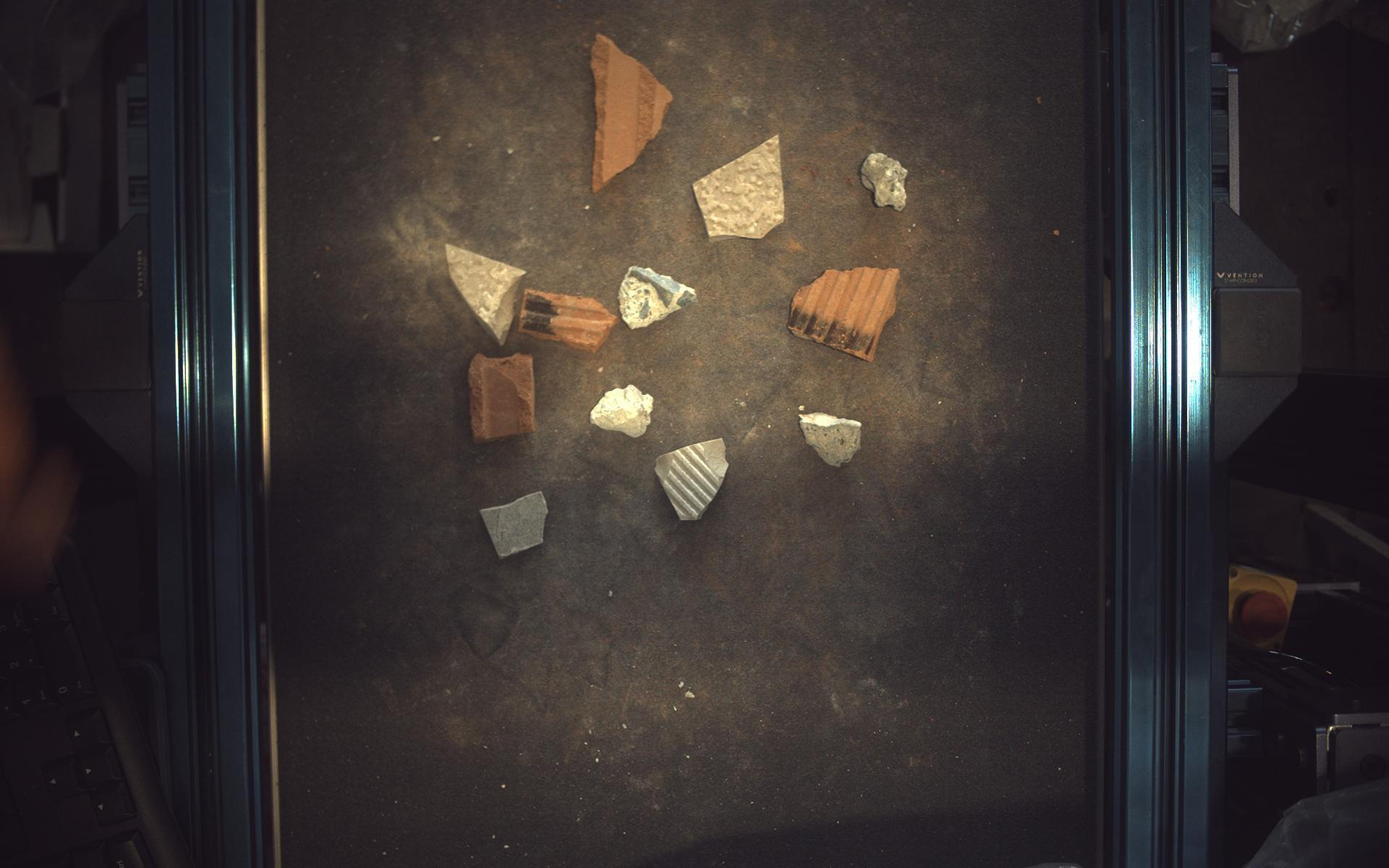brick: (592, 33, 673, 191), (790, 266, 901, 361), (518, 288, 617, 352), (469, 353, 536, 443)
concrete: (620, 267, 698, 328), (802, 411, 862, 467), (592, 384, 654, 438), (863, 152, 909, 210)
tile: (694, 134, 786, 238), (447, 243, 525, 346), (656, 438, 729, 521), (480, 492, 548, 559)
